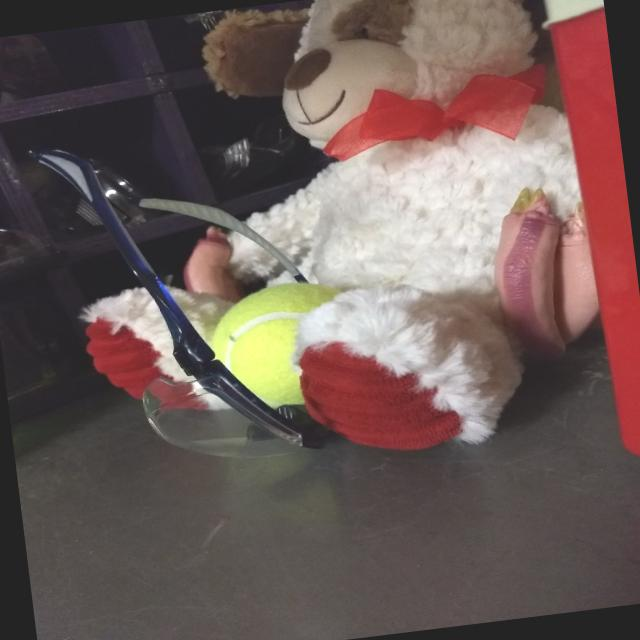Tennis Ball: (205, 278, 342, 419)
